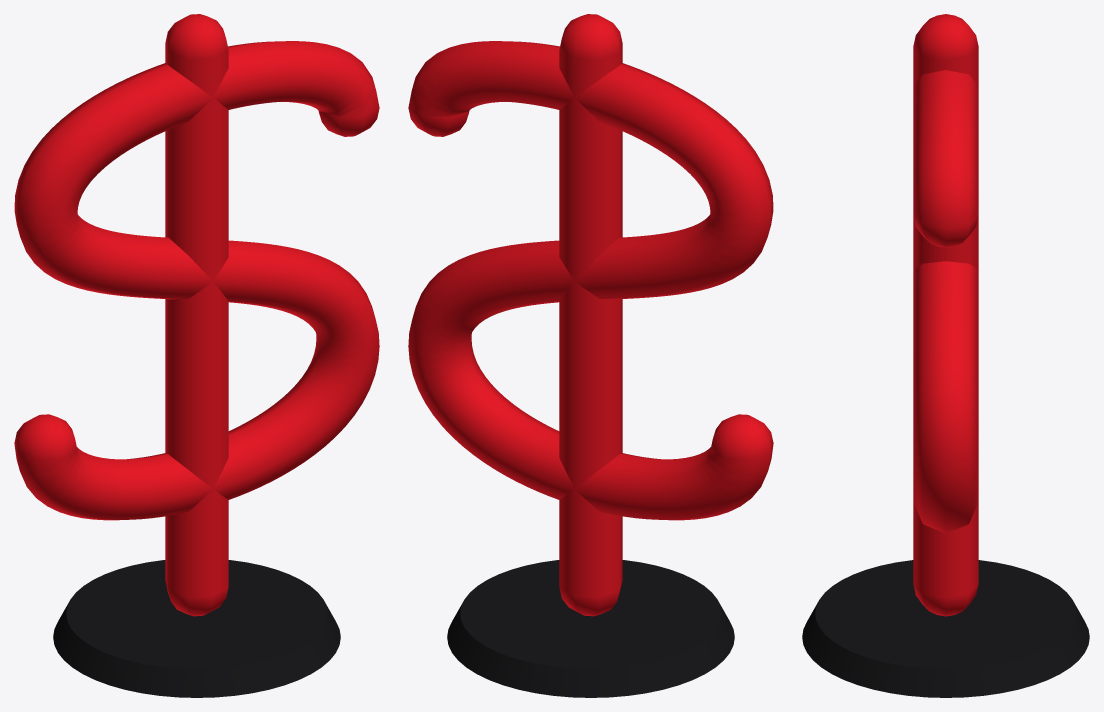
The model's file is sb-emblem-blood.glb.
3 views of the same model, side by side, from view 1: azimuth 30°, elevation 25°; view 2: azimuth 150°, elevation 25°; view 3: azimuth 270°, elevation 25° (orthographic).
Parts seen in each view (by area): view 1: mark, plinth; view 2: mark, plinth; view 3: mark, plinth.
Boxes of the visible parts, box(x1,y1,x2,y2) form: mark: box(14, 14, 379, 616); plinth: box(53, 560, 340, 697); mark: box(408, 14, 773, 616); plinth: box(447, 560, 734, 697); mark: box(913, 14, 978, 616); plinth: box(802, 560, 1089, 697).
Size of the model in its own units: 0.19 by 0.314 by 0.132.
